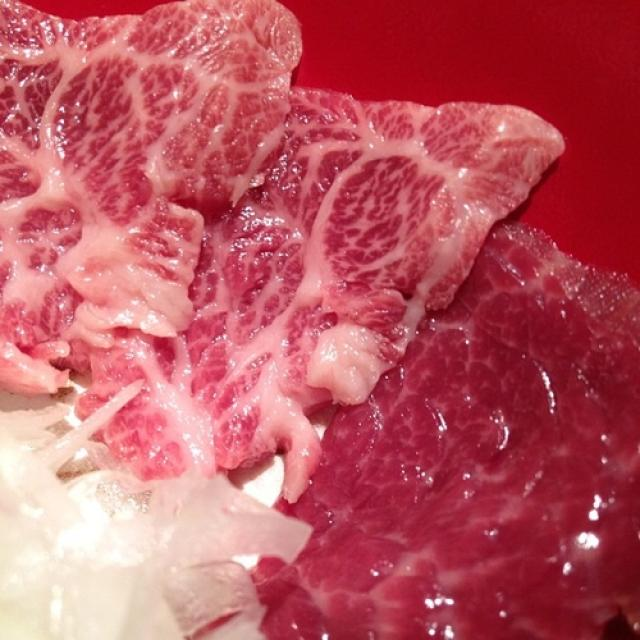刺身生食: (4, 2, 616, 624)
